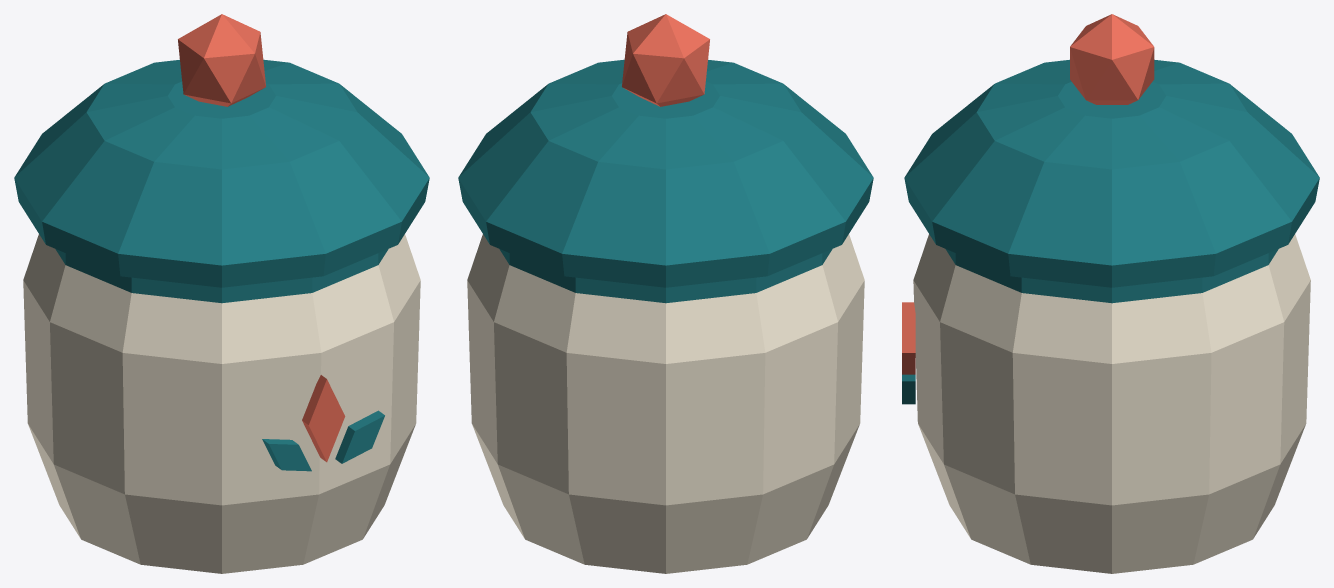
File: sugar_jar.glb
The picture shows the model from 3 angles, left to right: view 1: azimuth 30°, elevation 25°; view 2: azimuth 150°, elevation 25°; view 3: azimuth 270°, elevation 25°; orthographic projection.
Parts seen in each view (by area): view 1: sugar_jar, part_lid; view 2: sugar_jar, part_lid; view 3: sugar_jar, part_lid.
Boxes of the visible parts, x1,y1,x2,y2 form: sugar_jar: (23, 234, 420, 573); part_lid: (14, 14, 429, 287); sugar_jar: (467, 234, 864, 573); part_lid: (458, 14, 873, 287); sugar_jar: (902, 234, 1310, 573); part_lid: (904, 14, 1319, 287).
Size of the model in its own units: 0.092 by 0.12 by 0.0925.
